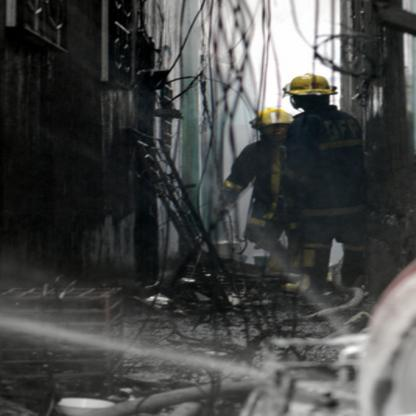Helmet: (282, 71, 338, 112), (255, 108, 294, 127)
